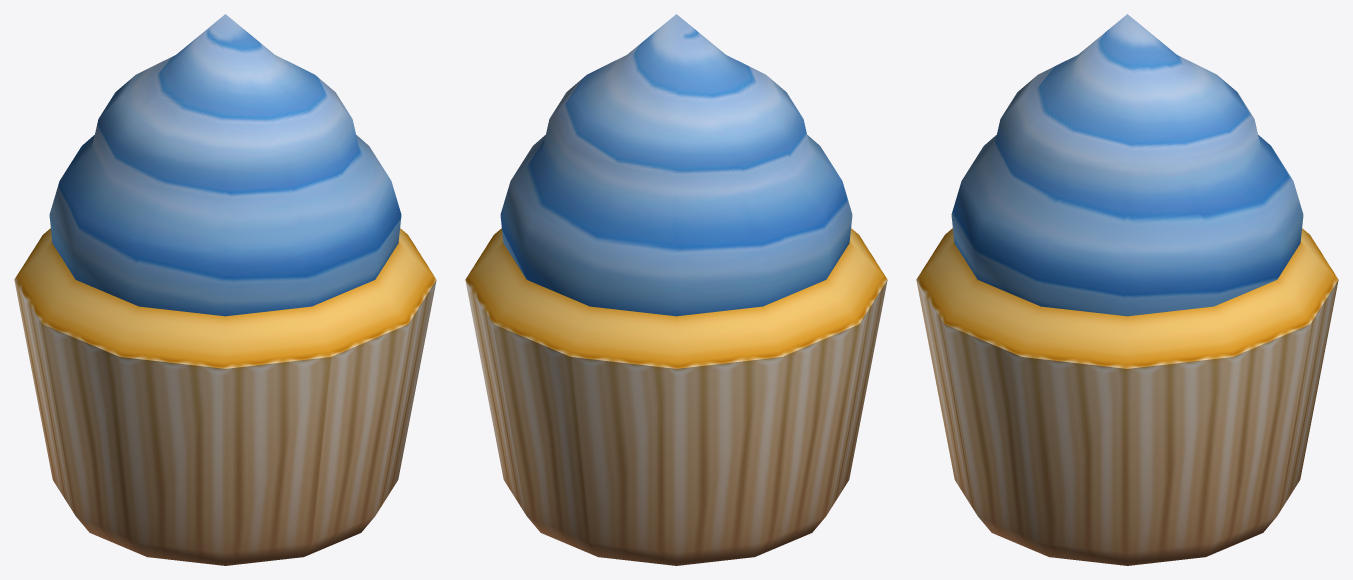
File: 009-Cupcakes_009.FBX
3 renders of one model, left to right at view 1: azimuth 30°, elevation 25°; view 2: azimuth 150°, elevation 25°; view 3: azimuth 270°, elevation 25°, orthographic.
Parts seen in each view (by area): view 1: 009-Cupcakes_009; view 2: 009-Cupcakes_009; view 3: 009-Cupcakes_009.
Boxes of the visible parts, left/top/right/bottom form: 009-Cupcakes_009: left=14, top=14, right=436, bottom=565; 009-Cupcakes_009: left=465, top=14, right=887, bottom=565; 009-Cupcakes_009: left=916, top=14, right=1338, bottom=565.
Bounding box in the file's own units: 12.34 × 15.65 × 12.34.
